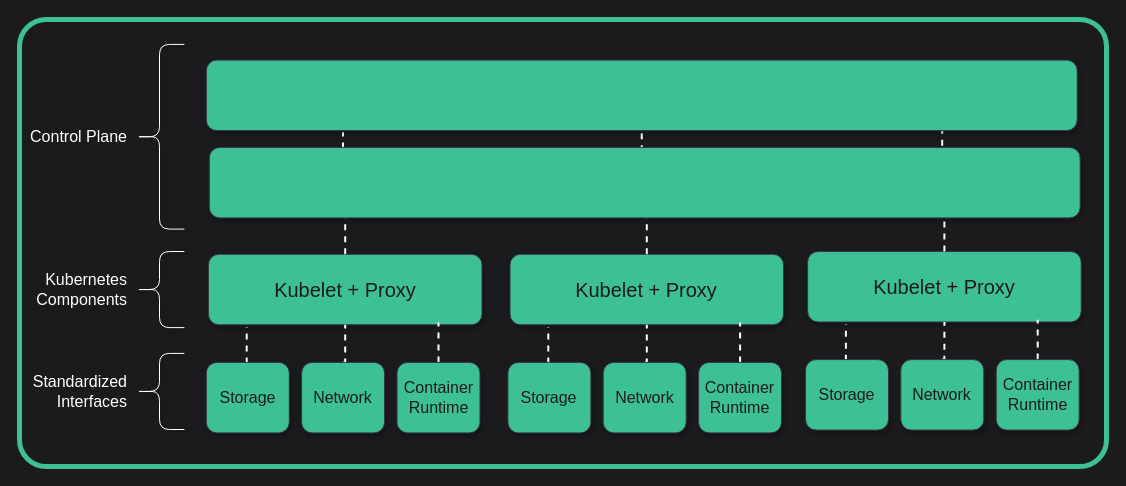
Image size: 1126x486. Some labels were removed from this diagram. The centre of each missing label's shape, as x and y in pixels:
API Server: the point at 642,96
Distributed Key-Value Store: the point at 645,183
